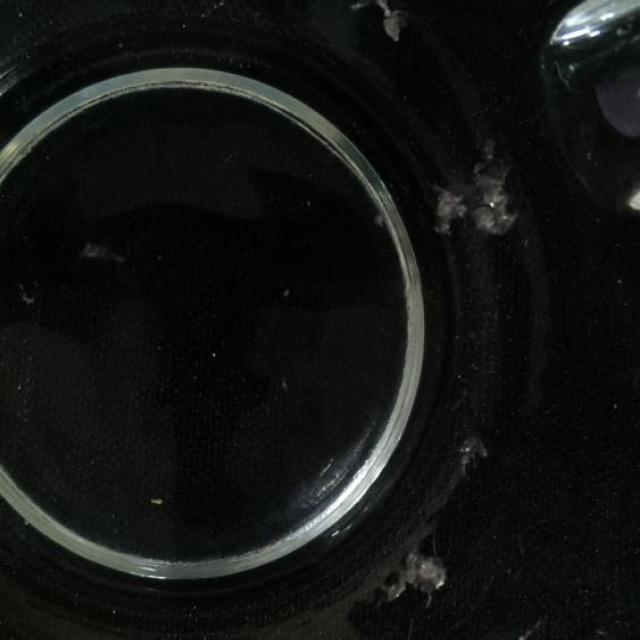fiber: (434, 131, 525, 255), (381, 533, 449, 609), (346, 0, 412, 50)
